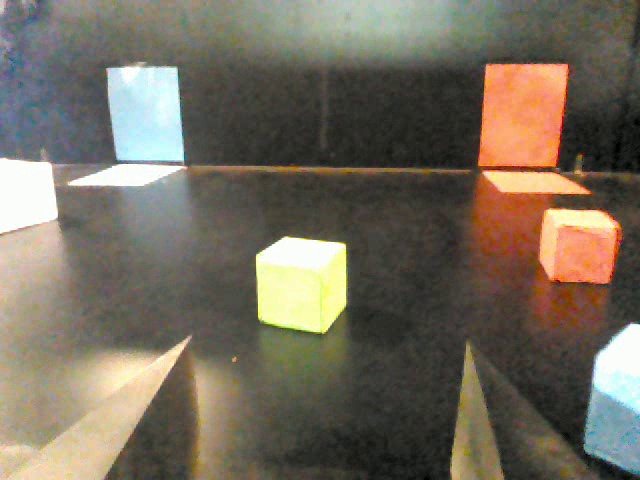cube: (255, 232, 352, 333), (589, 321, 640, 474), (539, 203, 622, 291)
